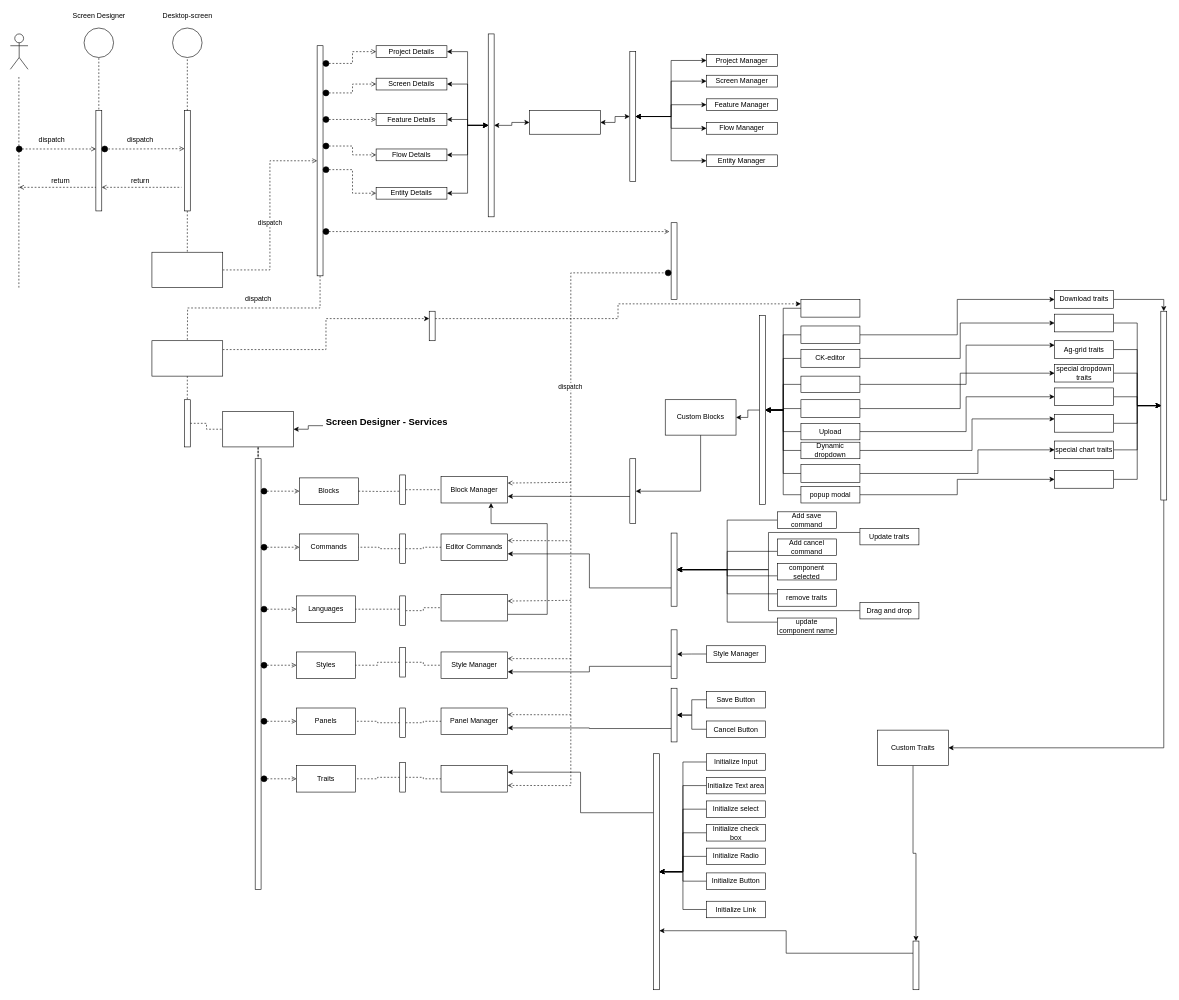
The diagram is 1179 pixels wide and 1000 high, and some of its shapes have lost their labels. The centre of each missing label's shape, as x and y in pixels:
Ag-grid: point 830,384
Api Gateway: point 564,122
Block Language: point 474,607
CK-editor traits: point 1084,323
download: point 830,334
dynamic dropdown traits: point 1084,423
GrapesJS: point 187,358
grapesJS preset webpage: point 830,308
Initialization: point 187,270
popup traits: point 1084,479
Services: point 258,429
special charts: point 830,473
special dropdown: point 830,408
Traits Manager: point 474,778
upload traits: point 1084,396
